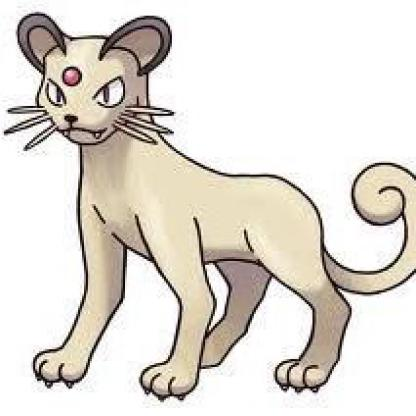Persian: (1, 13, 415, 401)
